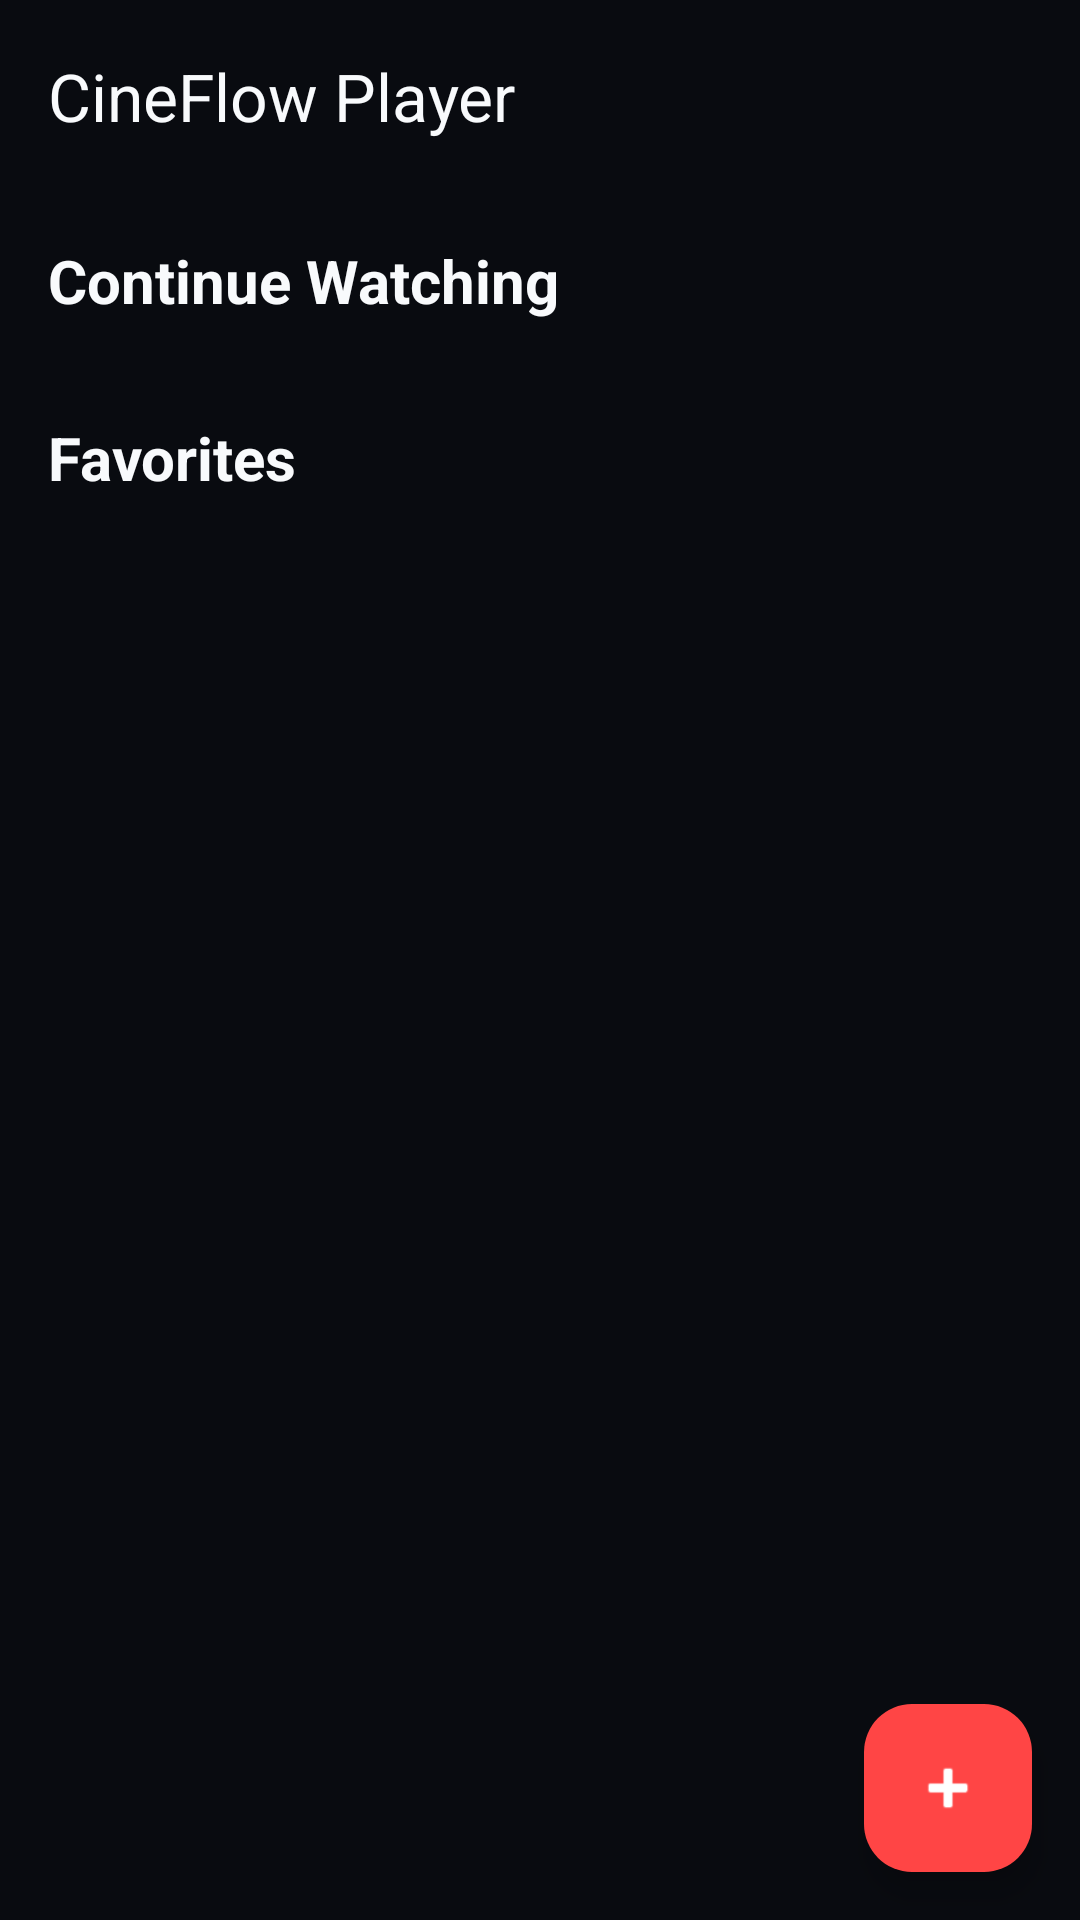

Named icons in this screenshot (1080x1920) and their centers, (x,y):
Add Video: (948,1788)
